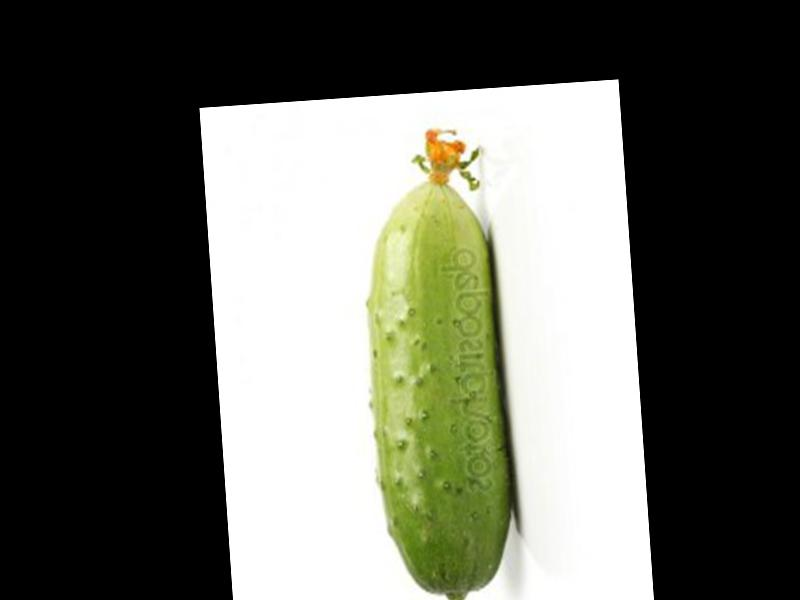Cucumber: (353, 128, 522, 600)
